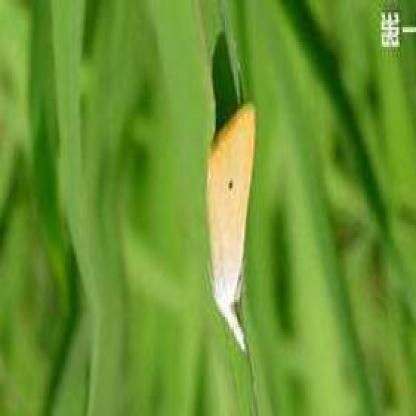stem-borer: (206, 100, 258, 356)
